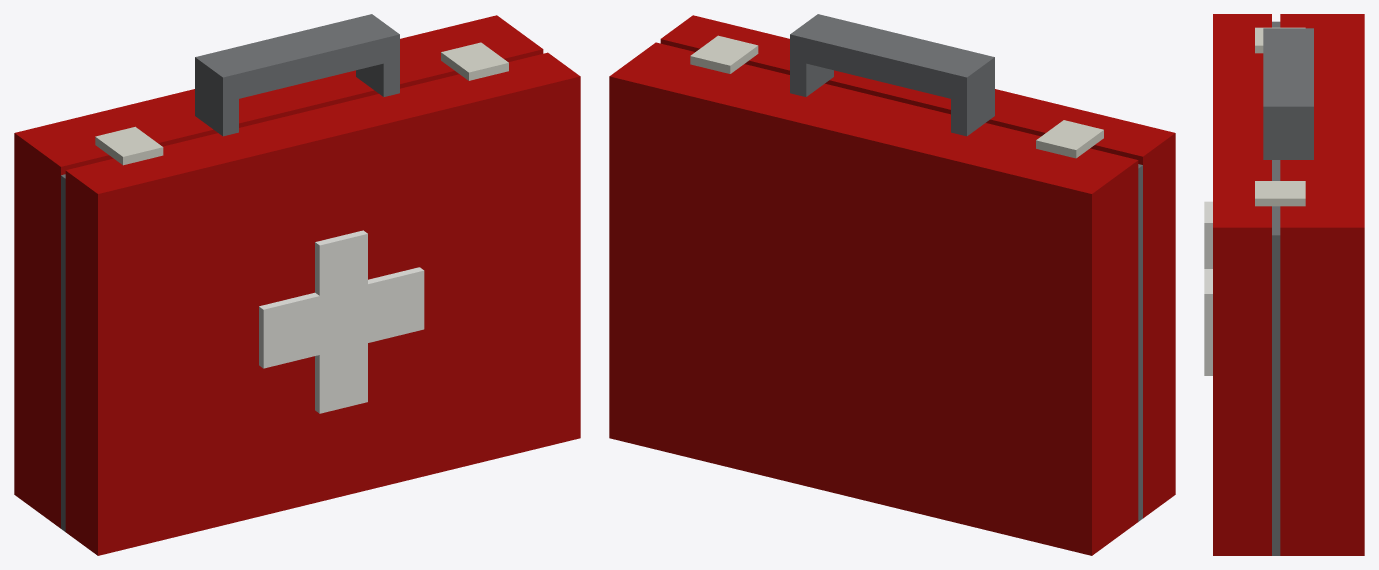
The model's file is first_aid_box.glb.
The picture shows the model from 3 angles, left to right: view 1: azimuth 30°, elevation 25°; view 2: azimuth 150°, elevation 25°; view 3: azimuth 270°, elevation 25°; orthographic projection. The views are drawn at different scales.
Visible parts, largest first — view 1: first_aid_box:compound; view 2: first_aid_box:compound; view 3: first_aid_box:compound.
Part boxes in pixels (x1,y1,x2,y2): first_aid_box:compound: (14, 14, 580, 555); first_aid_box:compound: (609, 14, 1175, 555); first_aid_box:compound: (1204, 14, 1364, 555).
Size of the model in its own units: 0.24 by 0.2 by 0.076.
